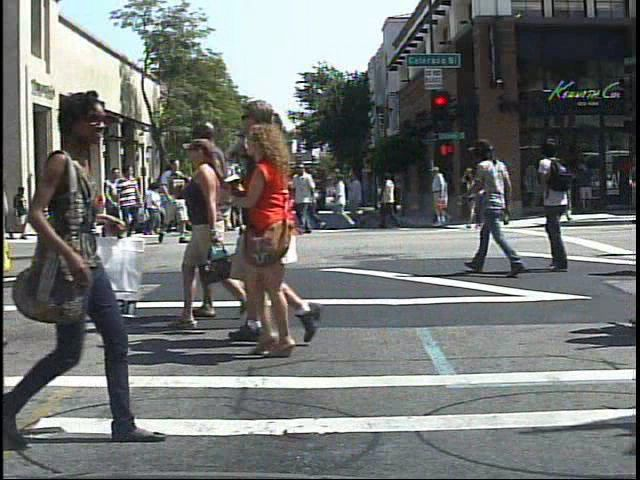person: (1, 80, 146, 451), (217, 92, 325, 345), (229, 119, 329, 364), (532, 132, 589, 277), (470, 129, 521, 280), (155, 157, 191, 247), (52, 165, 82, 246), (113, 161, 142, 244), (426, 160, 457, 232), (100, 163, 127, 242), (30, 183, 54, 244), (89, 183, 109, 222)
